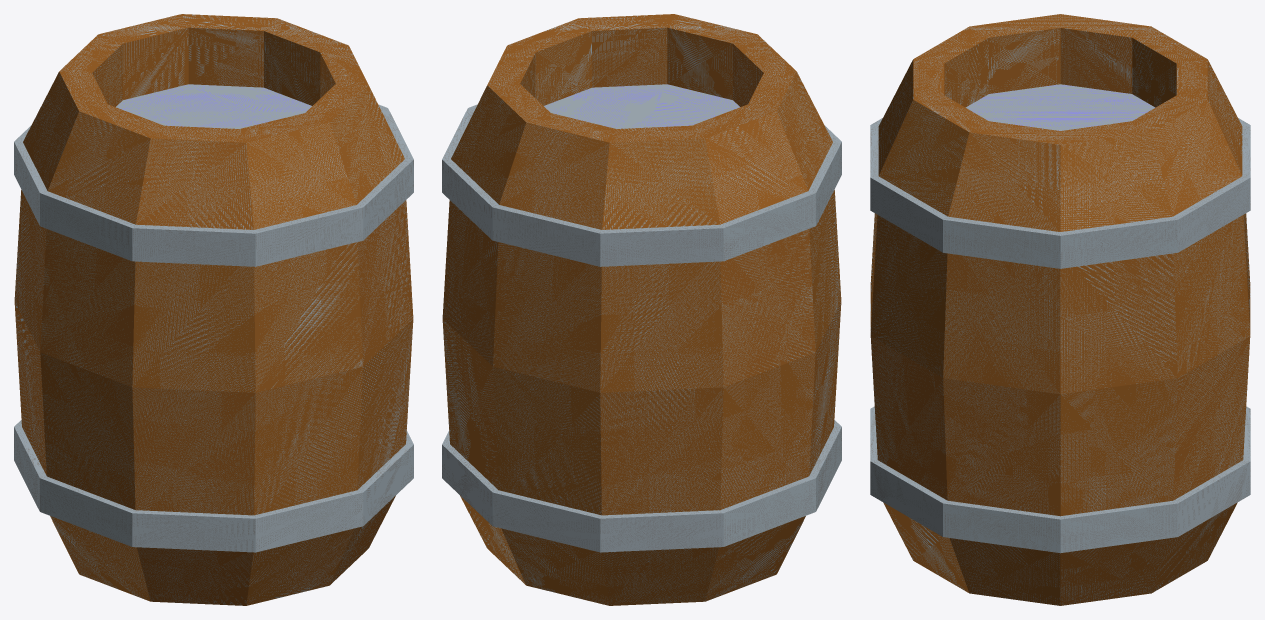
Rendered from Barrel_Water_01.fbx.
The picture shows the model from 3 angles, left to right: view 1: azimuth 30°, elevation 25°; view 2: azimuth 150°, elevation 25°; view 3: azimuth 270°, elevation 25°; orthographic projection.
Parts seen in each view (by area): view 1: Model; view 2: Model; view 3: Model.
Boxes of the visible parts, bbox=[...] form: Model: bbox=[14, 14, 413, 605]; Model: bbox=[442, 14, 841, 605]; Model: bbox=[870, 14, 1250, 605].
Bounding box in the file's own units: 158 × 200 × 150.
